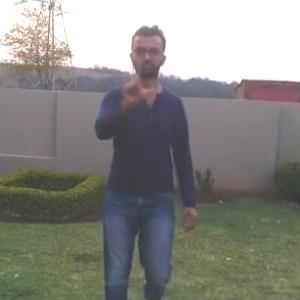land_hand: (112, 59, 159, 115)
